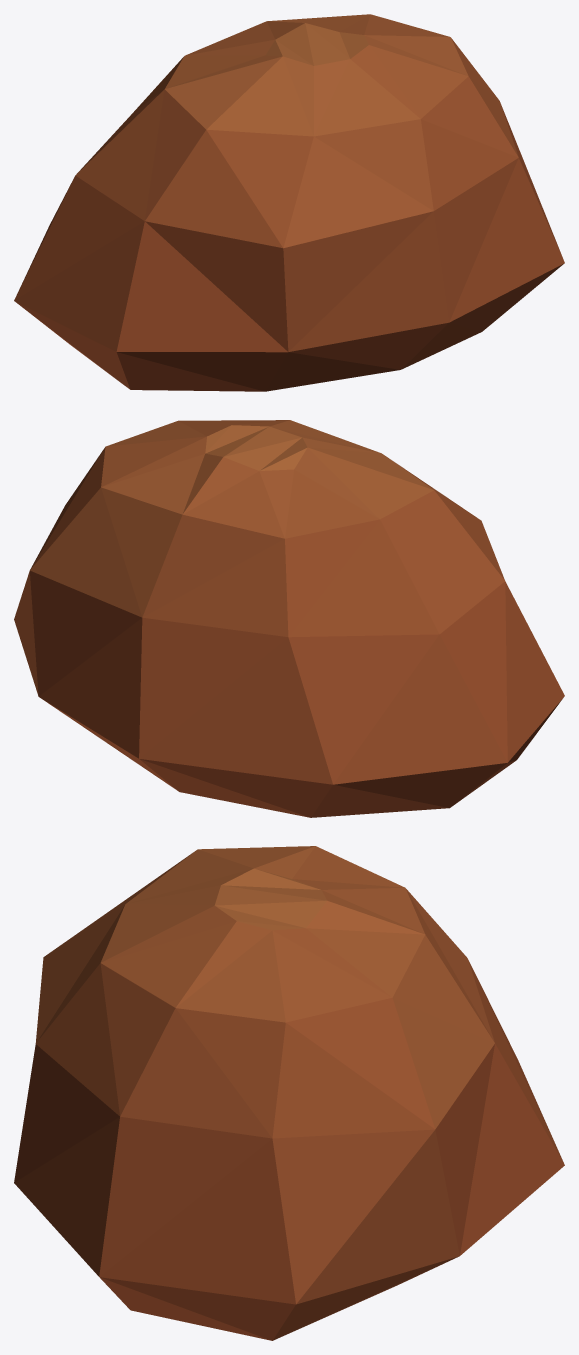
Rendered from RockSmall.fbx.
3 views of the same model, one above another, from view 1: azimuth 30°, elevation 25°; view 2: azimuth 150°, elevation 25°; view 3: azimuth 270°, elevation 25° (orthographic). The views are drawn at different scales.
Visible parts, largest first — view 1: RockSmall; view 2: RockSmall; view 3: RockSmall.
Boxes of the visible parts, x1,y1,x2,y2 form: RockSmall: (14,14,564,391); RockSmall: (14,420,564,817); RockSmall: (14,846,564,1340).
Size of the model in its own units: 1.11 by 0.5923 by 0.8472.
